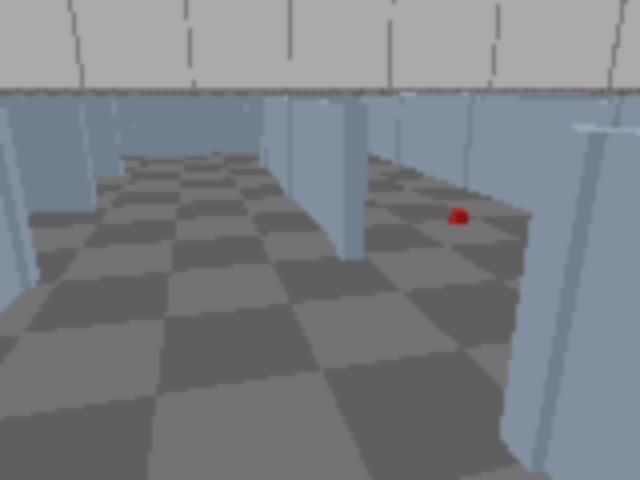puck: (449, 208, 468, 226)
